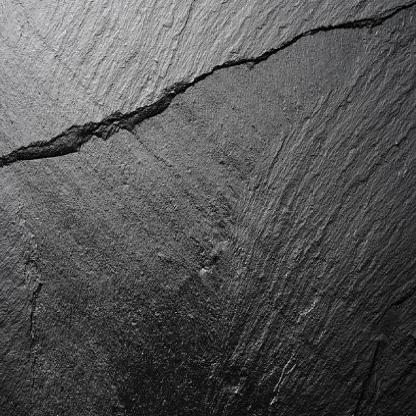Sedimentary_Sandstone: (2, 2, 415, 415)
